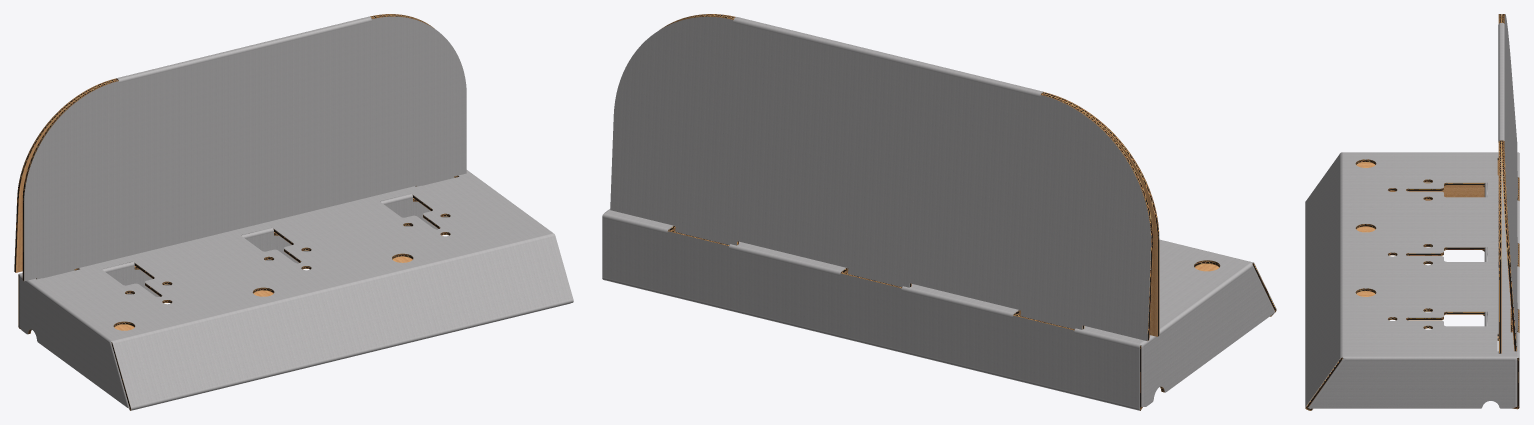
File: 3D EXPOSITOR ADEO.gltf
3 views of the same model, side by side, from view 1: azimuth 30°, elevation 25°; view 2: azimuth 150°, elevation 25°; view 3: azimuth 270°, elevation 25° (orthographic). The views are drawn at different scales.
Parts seen in each view (by area): view 1: TQ_ARD-node.001, TQ_ARD-node; view 2: TQ_ARD-node.001, TQ_ARD-node; view 3: TQ_ARD-node, TQ_ARD-node.001, TQ_ARD_D2-node.
Part boxes in pixels (<box>): TQ_ARD-node.001: <box>14,14,466,281</box>; TQ_ARD-node: <box>18,170,573,410</box>; TQ_ARD-node.001: <box>610,14,1159,341</box>; TQ_ARD-node: <box>602,209,1276,410</box>; TQ_ARD-node: <box>1305,152,1519,410</box>; TQ_ARD-node.001: <box>1498,14,1517,353</box>; TQ_ARD_D2-node: <box>1356,162,1498,340</box>.
Size of the model in its own units: 0.7099 by 0.3583 by 0.3092.
9 materials, 9 textured.
